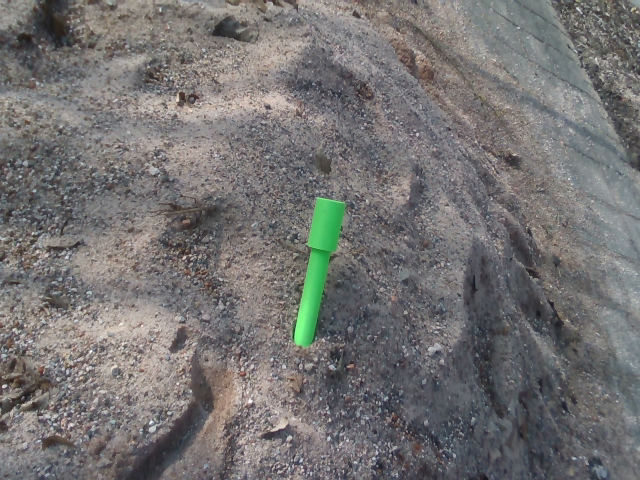Probe: (287, 187, 354, 364)
